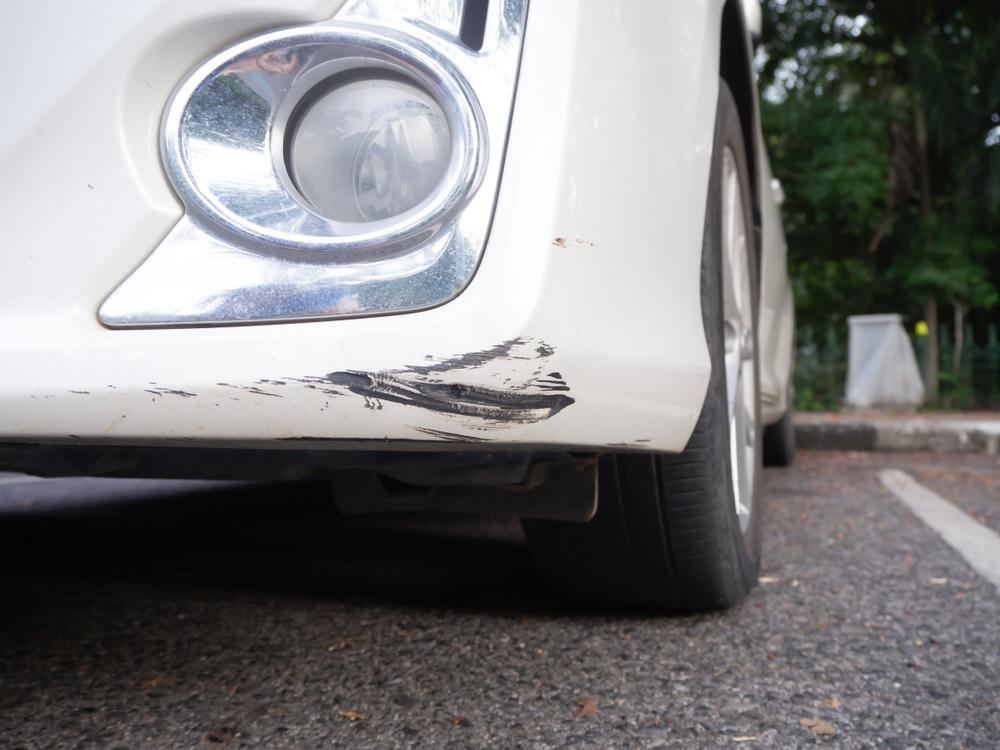scratch: (44, 331, 580, 446)
